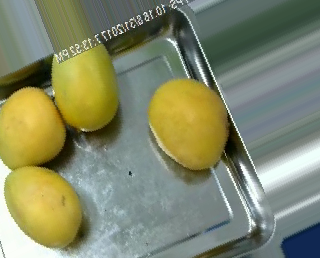Mango: (145, 73, 231, 176), (47, 33, 122, 134), (1, 166, 83, 251), (0, 87, 66, 168)
